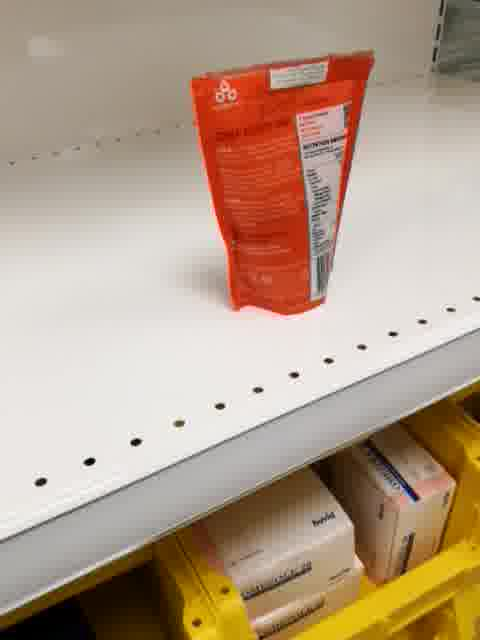whitechia: (189, 47, 375, 318)
